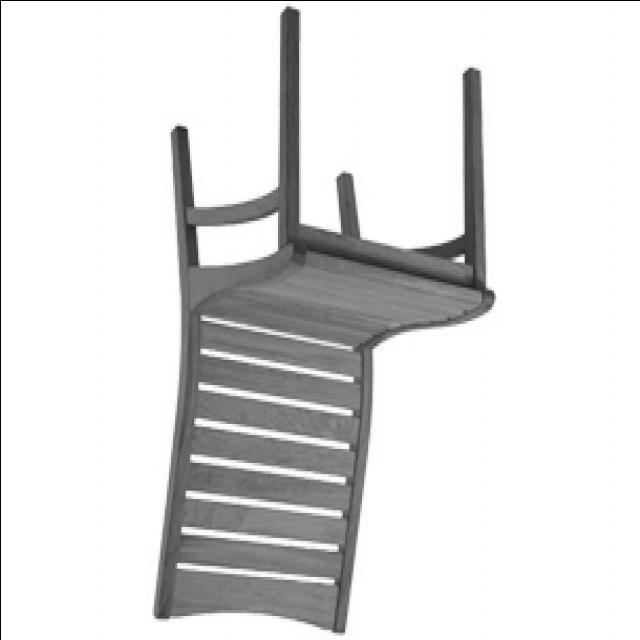chair: (151, 6, 494, 634)
